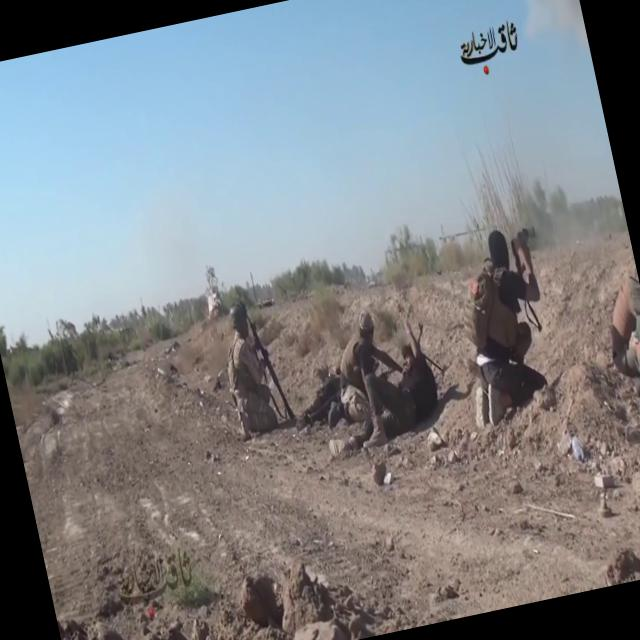long weapon: (239, 297, 303, 432), (505, 220, 547, 272)
